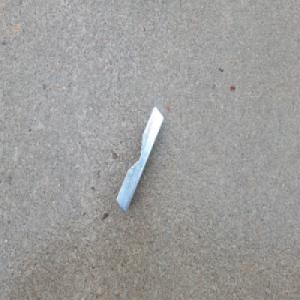ClampPart: (116, 104, 165, 213)
